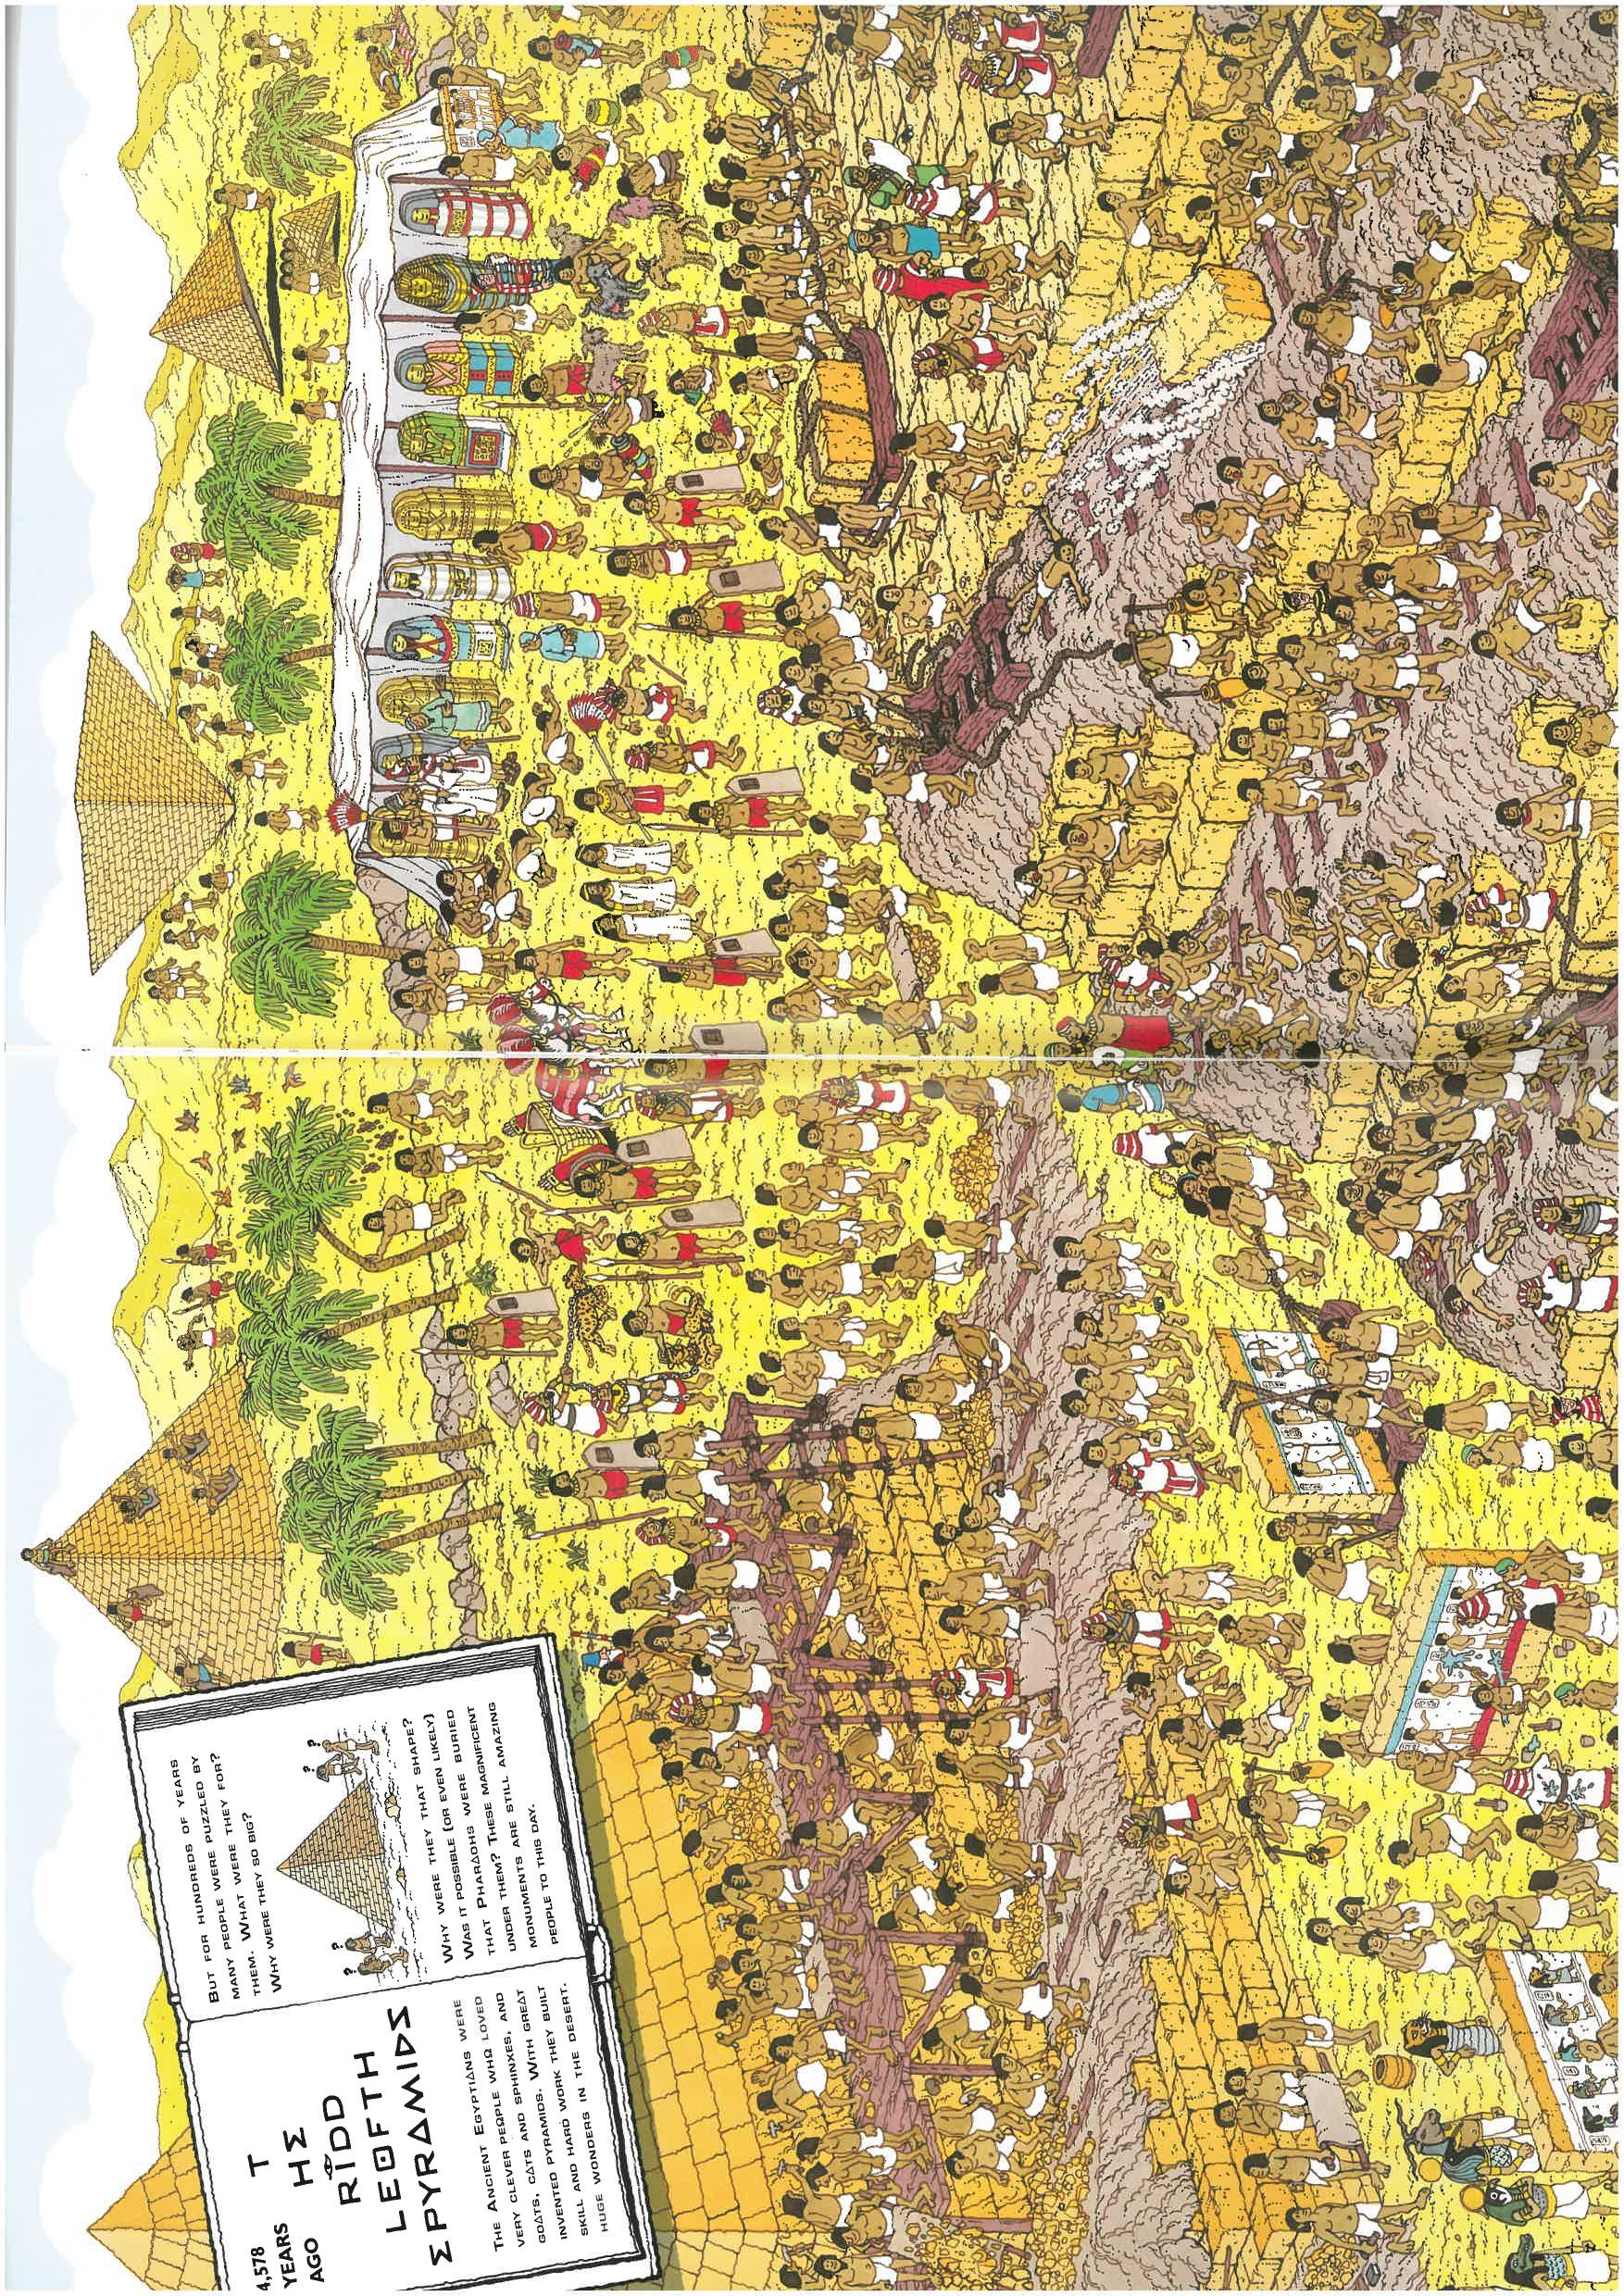waldos: (468, 249, 568, 302)
